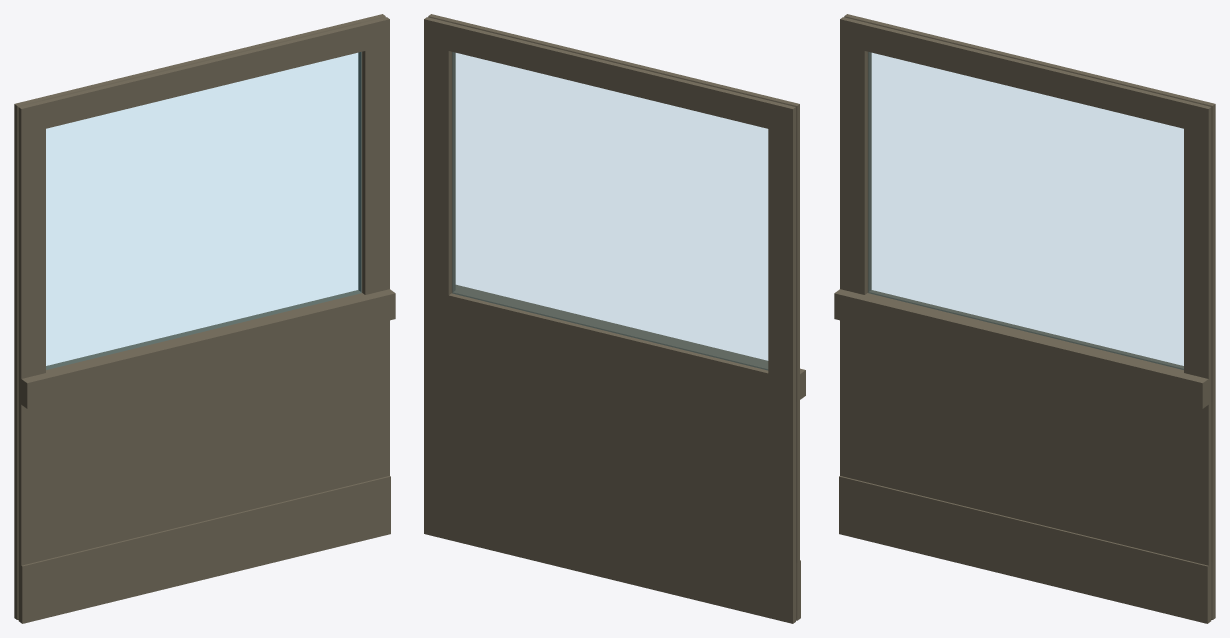
The model's file is SM_wall_lowlevel_02.fbx.
The picture shows the model from 3 angles, left to right: view 1: azimuth 30°, elevation 25°; view 2: azimuth 150°, elevation 25°; view 3: azimuth 330°, elevation 25°; orthographic projection.
Visible parts, largest first — view 1: wall_lowlevel_02; view 2: wall_lowlevel_02; view 3: wall_lowlevel_02.
Part boxes in pixels (x1,y1,x2,y2): wall_lowlevel_02: (14, 14, 395, 623); wall_lowlevel_02: (424, 14, 805, 623); wall_lowlevel_02: (834, 14, 1215, 623).
Bounding box in the file's own units: 150 × 200 × 9.07.
